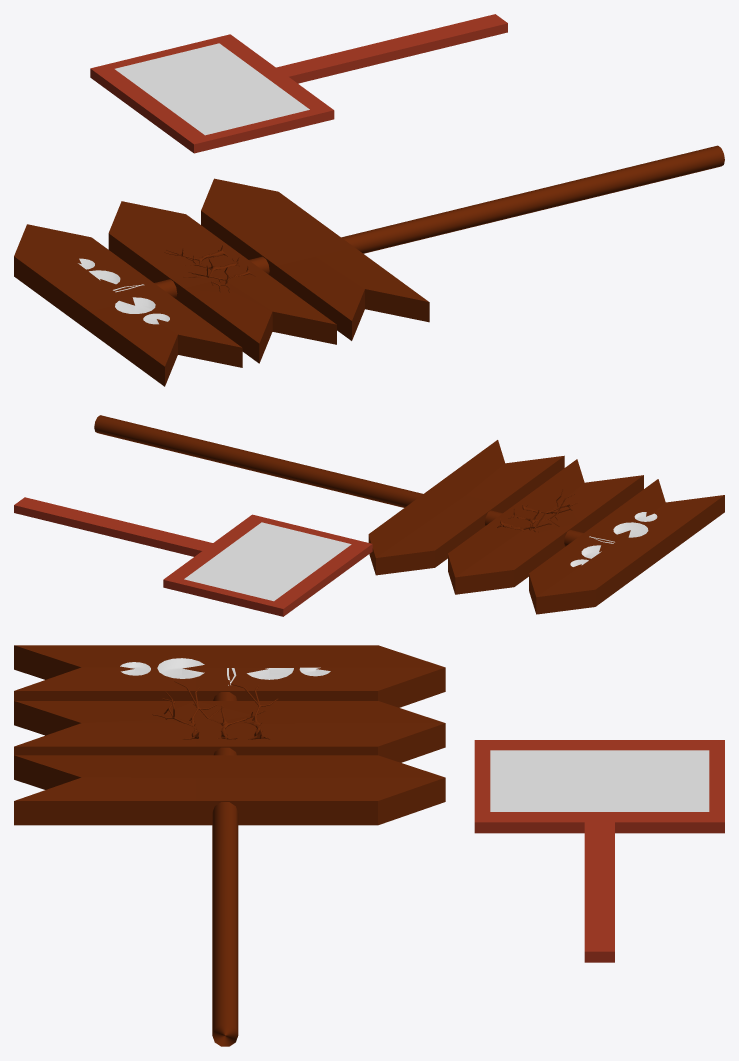
Rendered from Signs.fbx.
The picture shows the model from 3 angles, top to bottom: view 1: azimuth 30°, elevation 25°; view 2: azimuth 150°, elevation 25°; view 3: azimuth 270°, elevation 25°; orthographic projection. The views are drawn at different scales.
Parts seen in each view (by area): view 1: Cube.001, Cube.000, Cube.002, Cube.004, Cylinder; view 2: Cube.001, Cube.000, Cube.002, Cube.004, Cylinder; view 3: Cube.004, Cube.001, Cube.000, Cube.002, Cylinder.
Boxes of the visible parts, x1,y1,x2,y2 form: Cube.001: [90, 14, 507, 153]; Cube.000: [14, 224, 242, 386]; Cube.002: [108, 201, 336, 363]; Cube.004: [201, 178, 429, 340]; Cylinder: [154, 145, 724, 298]; Cube.001: [14, 497, 372, 616]; Cube.000: [529, 479, 724, 614]; Cube.002: [448, 459, 643, 594]; Cube.004: [368, 440, 564, 575]; Cylinder: [94, 415, 593, 546]; Cube.004: [14, 755, 445, 825]; Cube.001: [474, 740, 724, 962]; Cube.000: [14, 645, 445, 707]; Cube.002: [14, 681, 445, 762]; Cylinder: [212, 680, 238, 1046].
Bounding box in the file's own units: 3265 × 239 × 2594.
